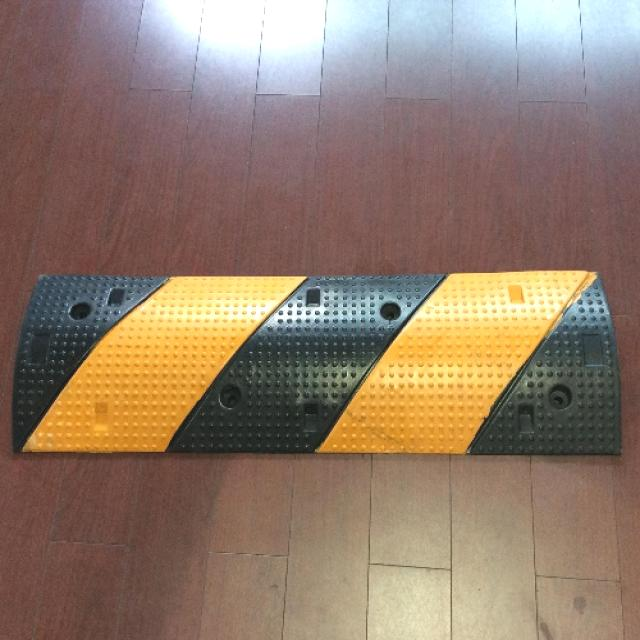Speed Bump: (0, 260, 622, 458)
